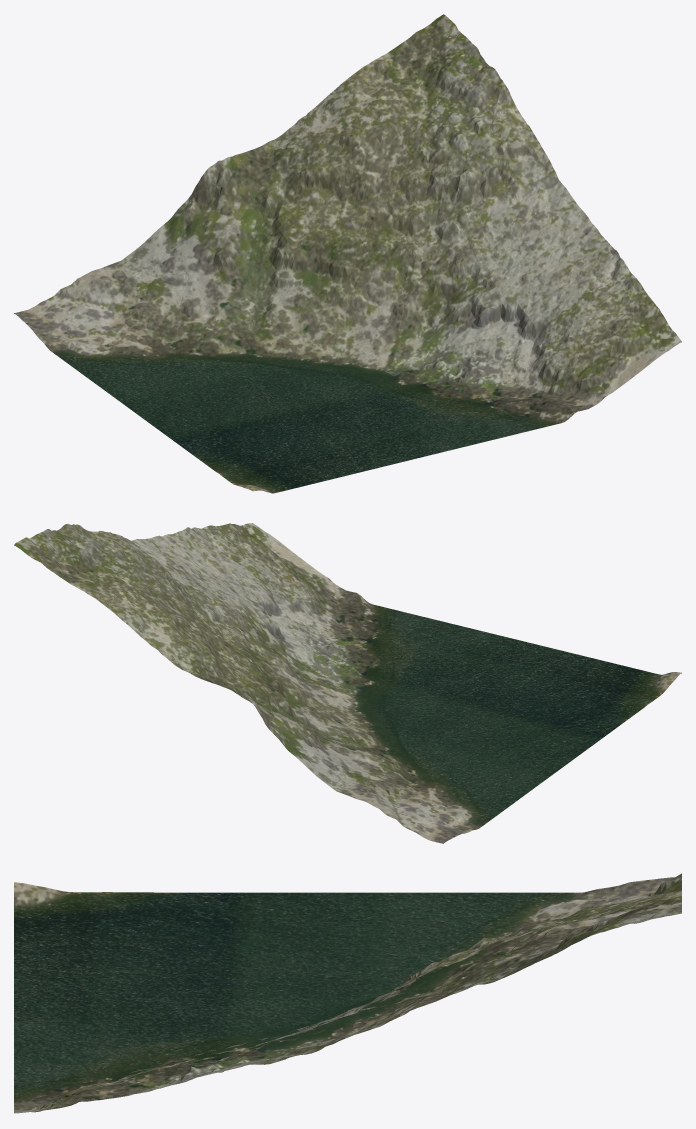
3 views of the same model, one above another, from view 1: azimuth 30°, elevation 25°; view 2: azimuth 150°, elevation 25°; view 3: azimuth 270°, elevation 25° (orthographic). The views are drawn at different scales.
Bounding box in the file's own units: 500 × 230 × 481.
1 material, 1 textured.
